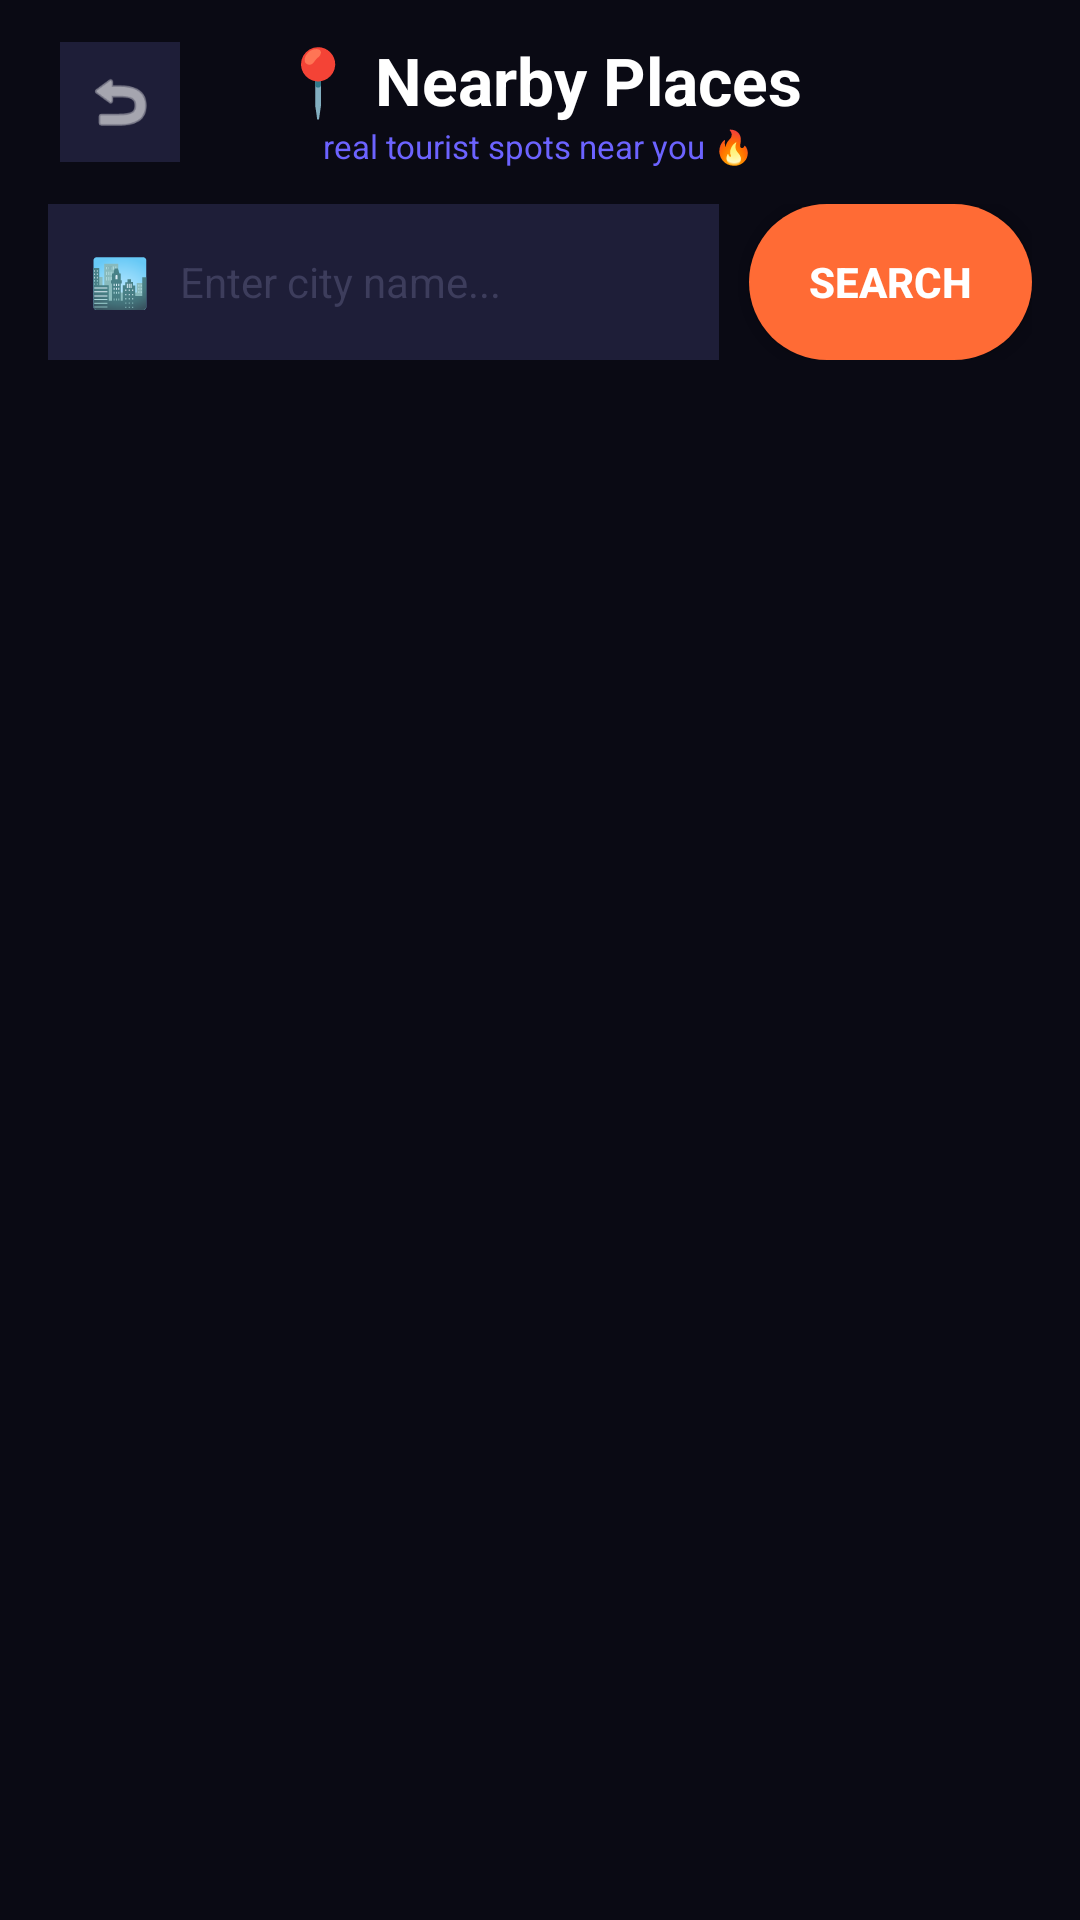

Icon click points for this 1080w x 1920h phone screenshot, format point (x, y):
revert: point (120, 102)
